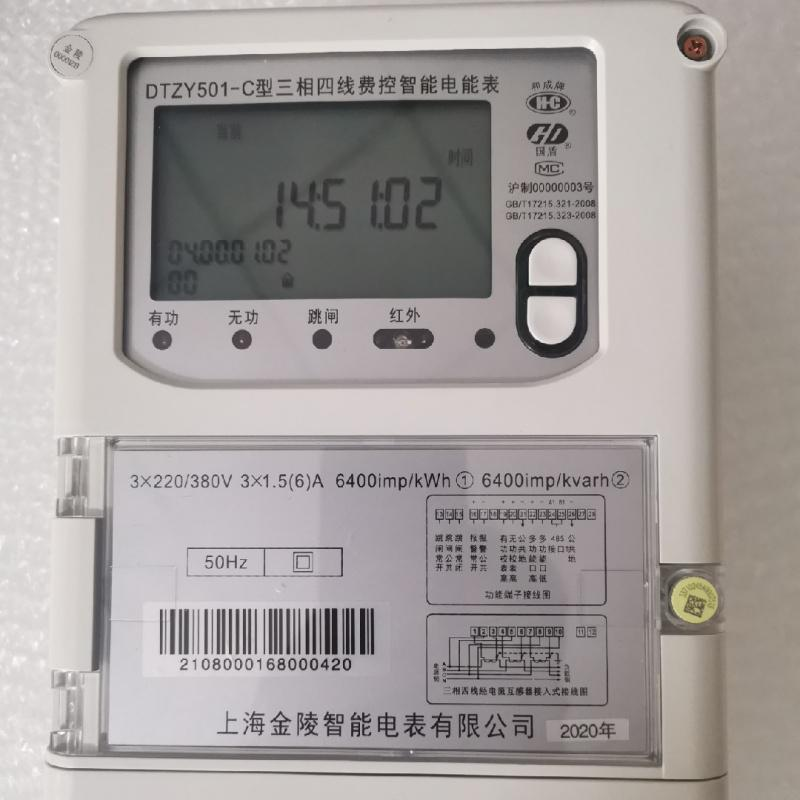digital: (52, 1, 729, 799)
